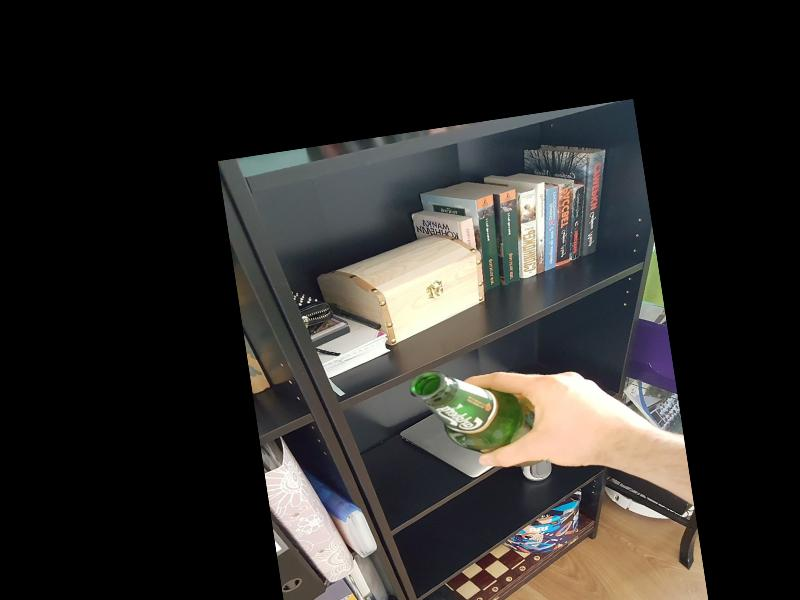Beer: (407, 356, 549, 482)
